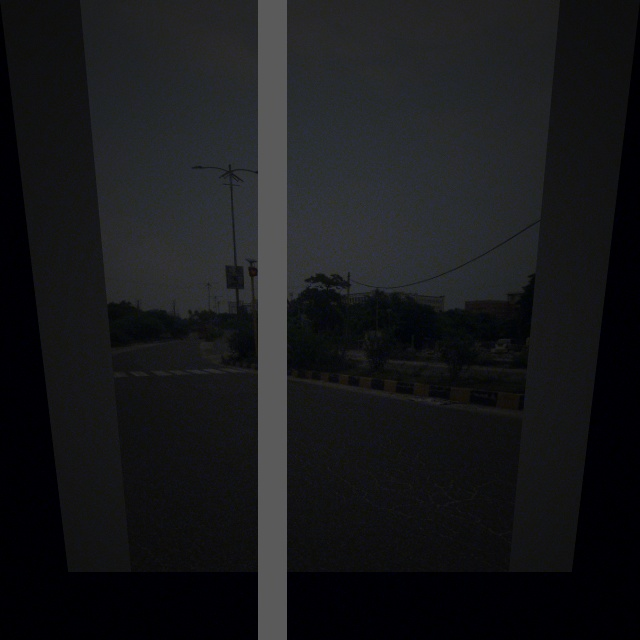Gap_in_Median: (268, 284, 296, 314)
